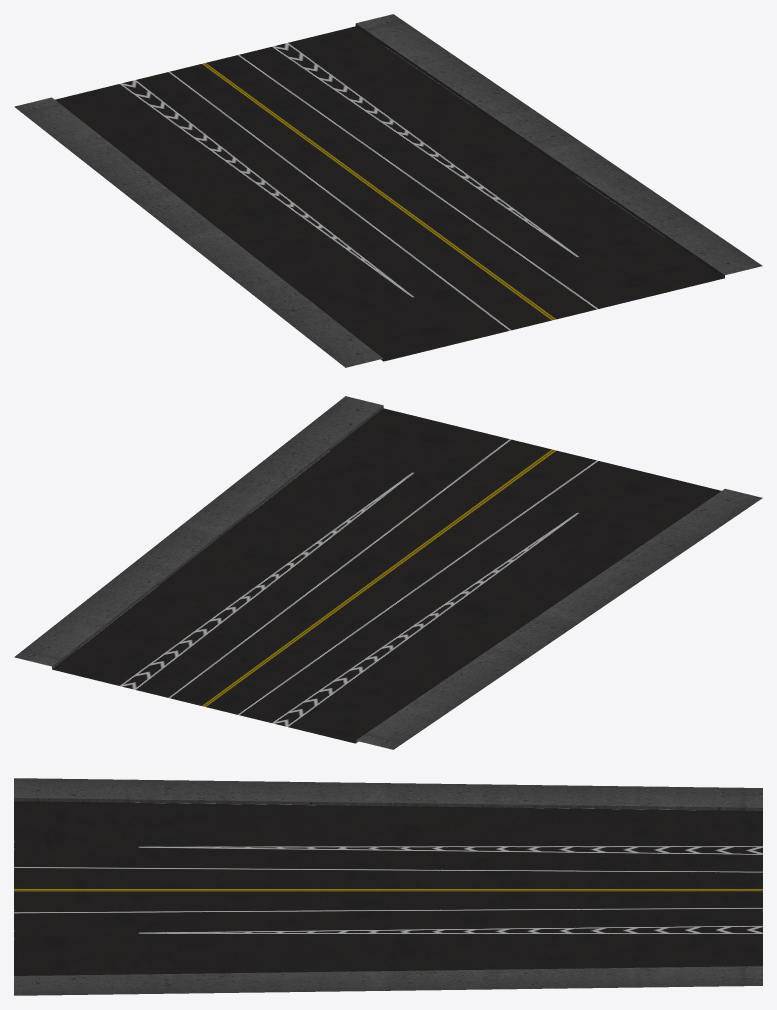
The model's file is RJs_Road Pass 2+4+2 Basic Segment_A_lod.fbx.
The picture shows the model from 3 angles, top to bottom: view 1: azimuth 30°, elevation 25°; view 2: azimuth 150°, elevation 25°; view 3: azimuth 270°, elevation 25°; orthographic projection. The views are drawn at different scales.
Parts seen in each view (by area): view 1: plane_lod; view 2: plane_lod; view 3: plane_lod.
Part boxes in pixels (<box>): plane_lod: <box>14,14,762,367</box>; plane_lod: <box>14,396,762,749</box>; plane_lod: <box>14,778,762,995</box>.
Size of the model in its own units: 4400 by 30.1 by 6400.
